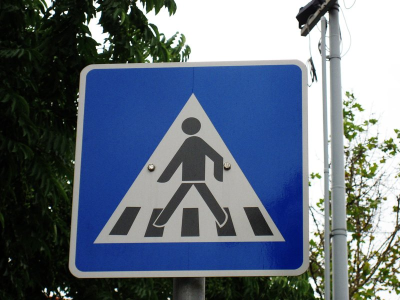crosswalk: (91, 74, 298, 265)
